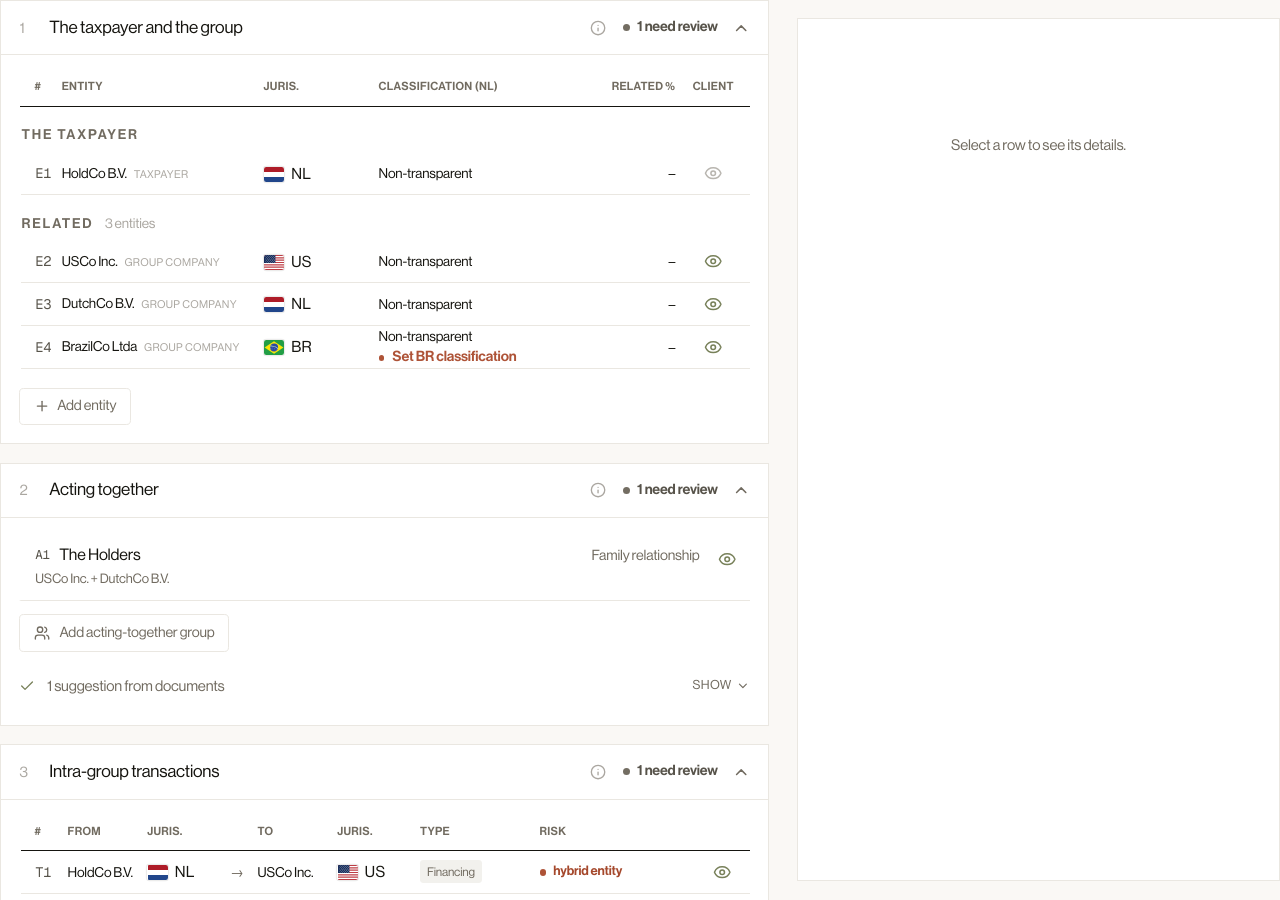
Test case: FactsPanelV2 — acting together (section 2) › renders each group as a row and opens its editor in the panel
Click the text "The Holders". click: (100, 556)
box: [59, 544, 141, 568]
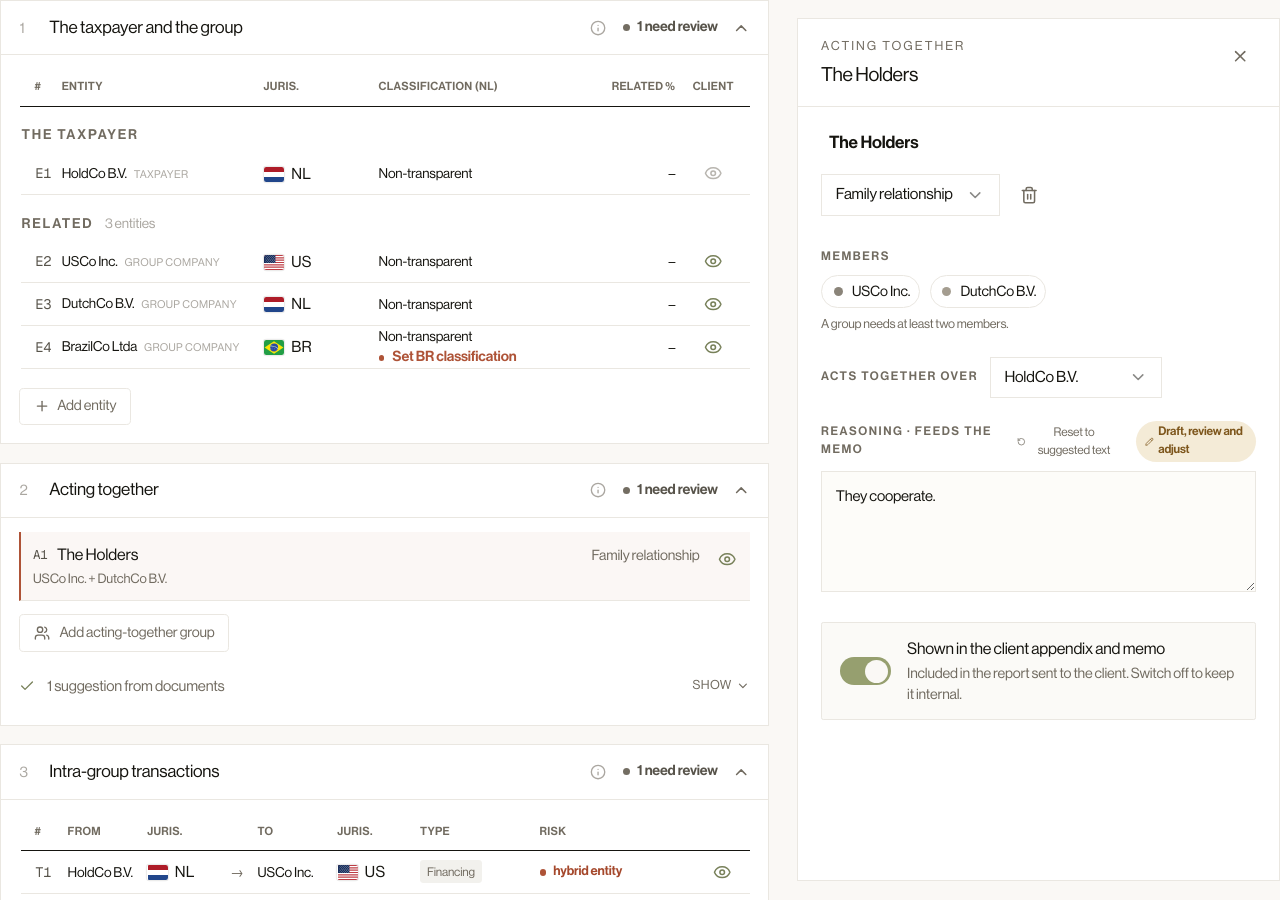
Now the text "Acts together over" is shown, box [821, 369, 978, 387]
Now the text "Reasoning · feeds the memo" is shown, box [821, 424, 994, 460]
